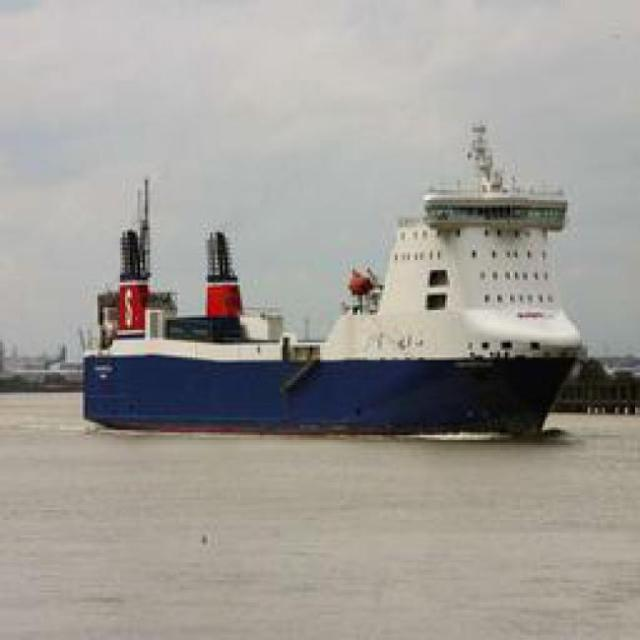boat: (58, 268, 601, 463)
